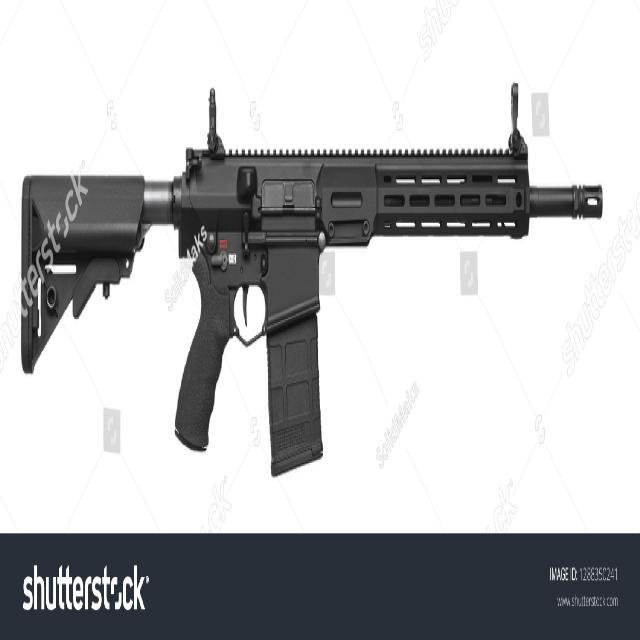rifle: (19, 79, 607, 484)
